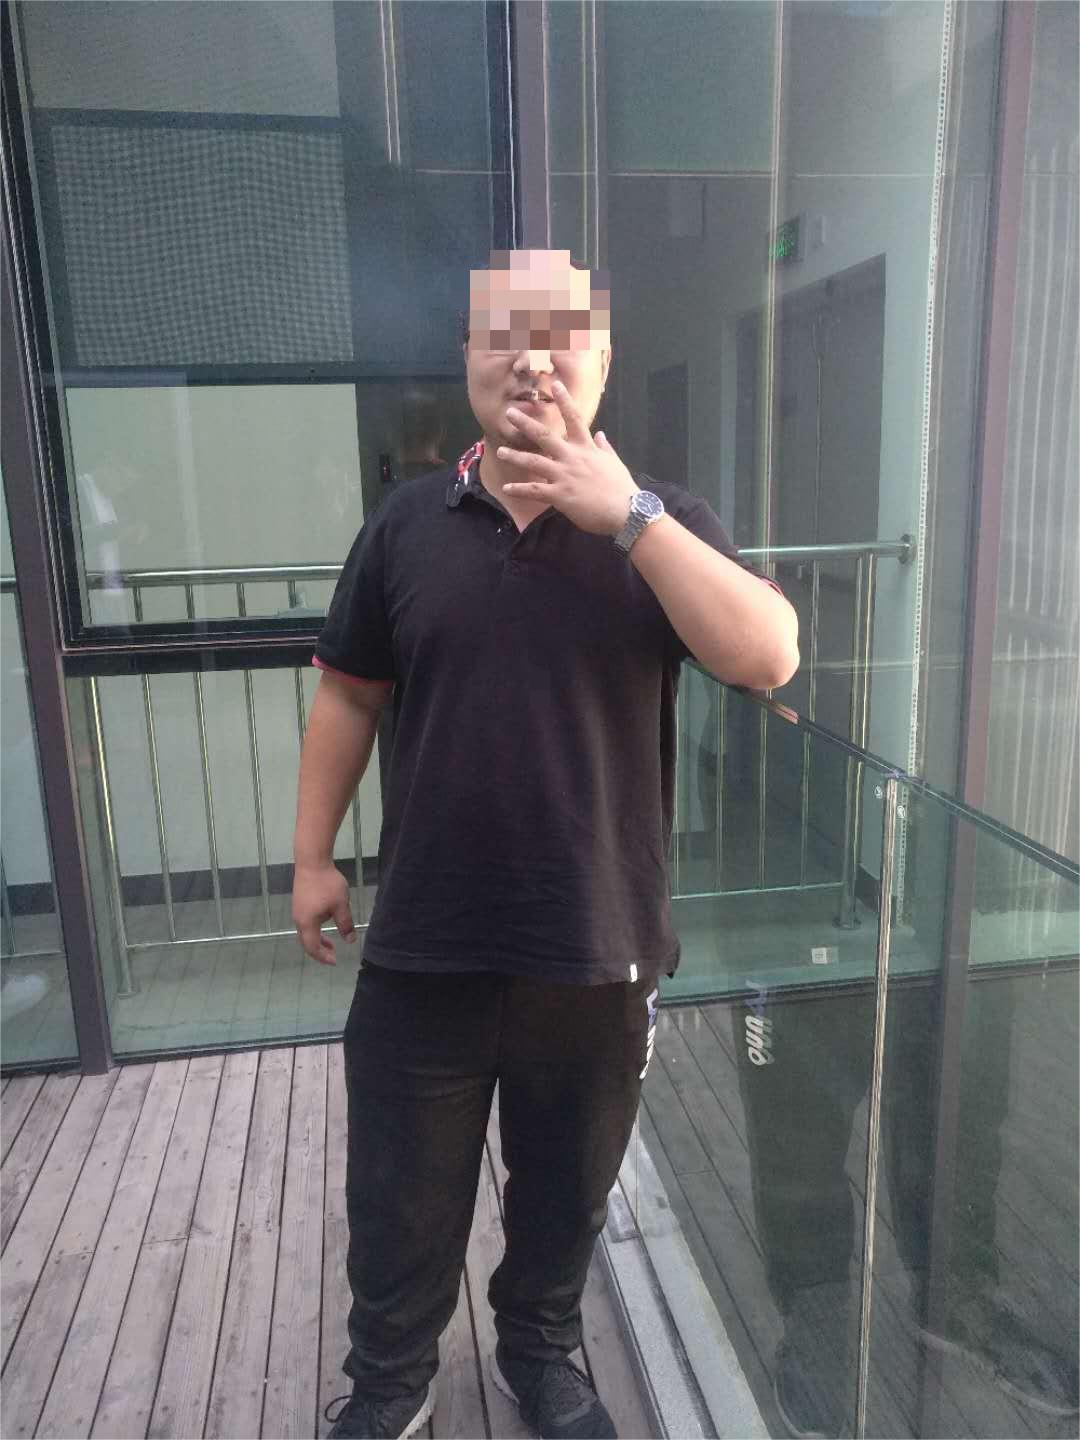smoke: (529, 386, 541, 406)
